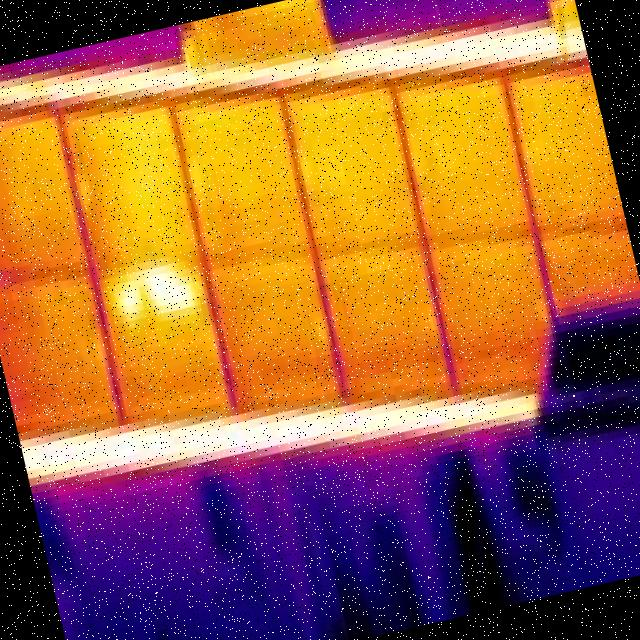Hotspot: (138, 260, 194, 316), (114, 288, 141, 315)
